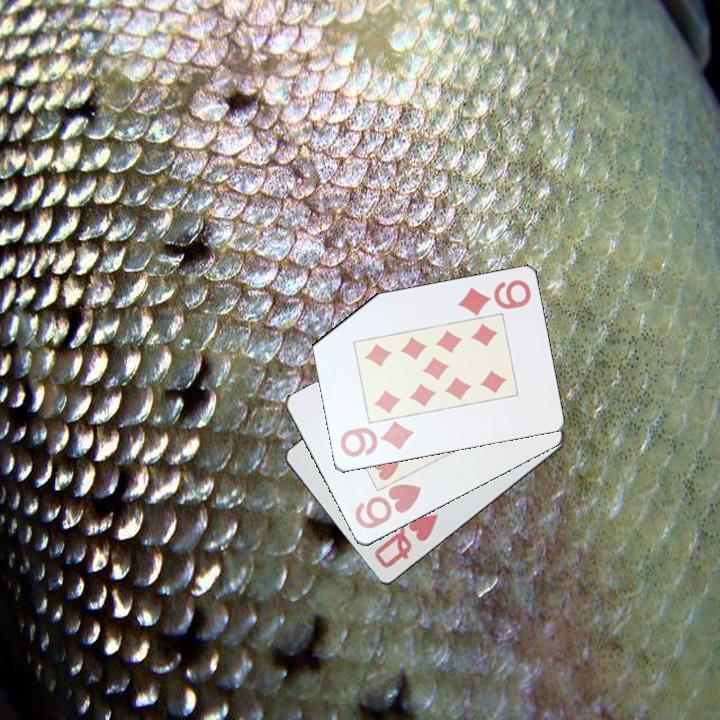6h: (351, 479, 424, 532)
9d: (336, 419, 417, 461), (453, 276, 534, 318)
Qh: (368, 511, 441, 573)
